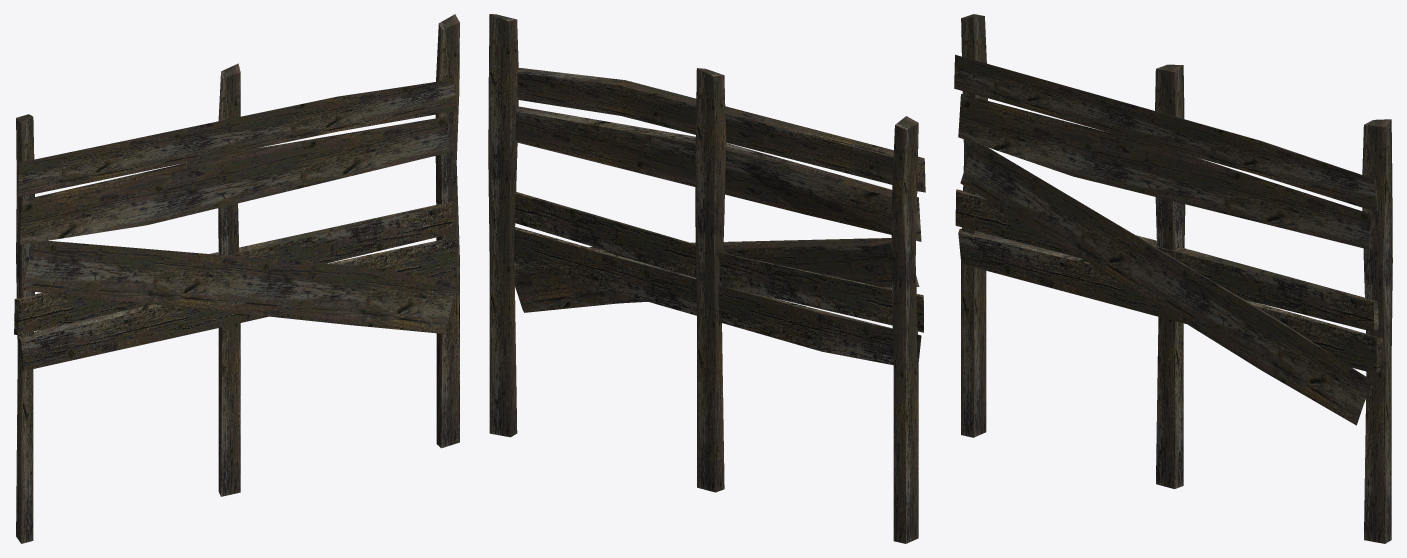
Rendered from sciana3.glb.
3 renders of one model, left to right at view 1: azimuth 30°, elevation 25°; view 2: azimuth 150°, elevation 25°; view 3: azimuth 330°, elevation 25°, orthographic.
Visible parts, largest first — view 1: zengin; view 2: zengin; view 3: zengin.
Boxes of the visible parts, box(x1,y1,x2,y2) form: zengin: box(14, 14, 459, 543); zengin: box(488, 14, 925, 543); zengin: box(954, 14, 1392, 543).
Bounding box in the file's own units: 5.66 × 5.21 × 0.5304.
1 material, 1 textured.
